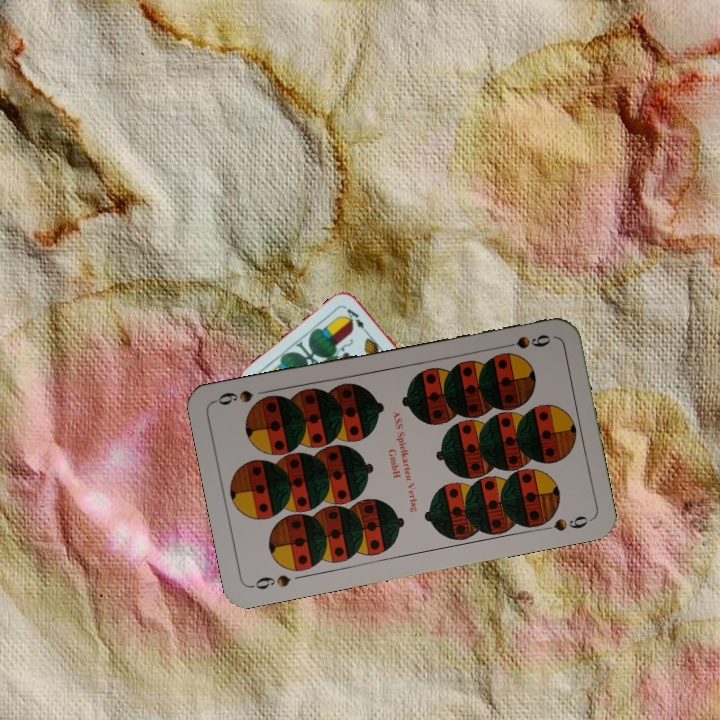S9: (496, 330, 553, 351), (247, 570, 293, 592)
